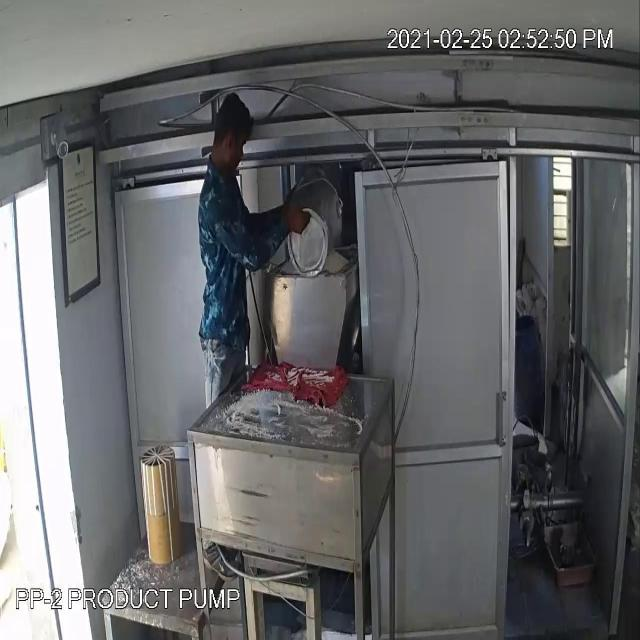no-helmet: (211, 90, 259, 162)
